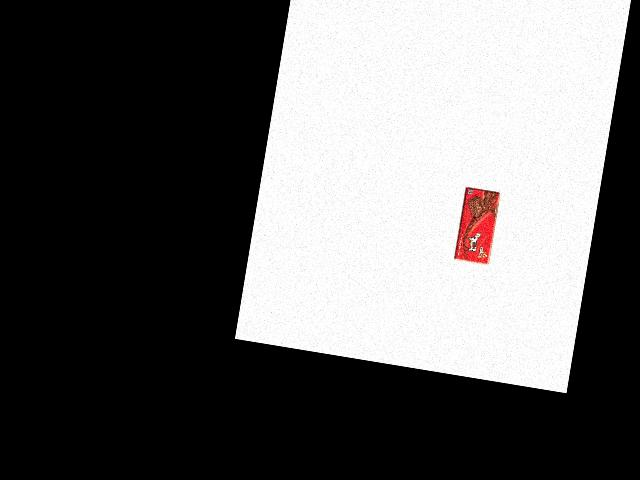chocolate: (461, 185, 508, 259)
